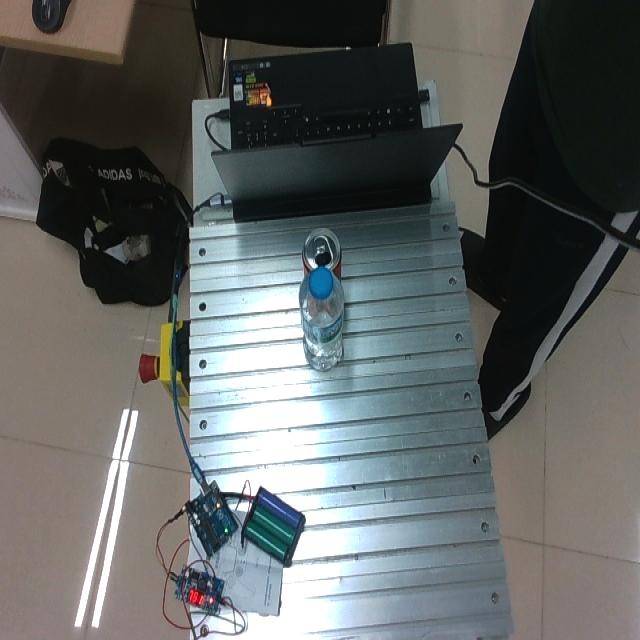coca: (301, 228, 342, 281)
lavie: (299, 261, 345, 372)
